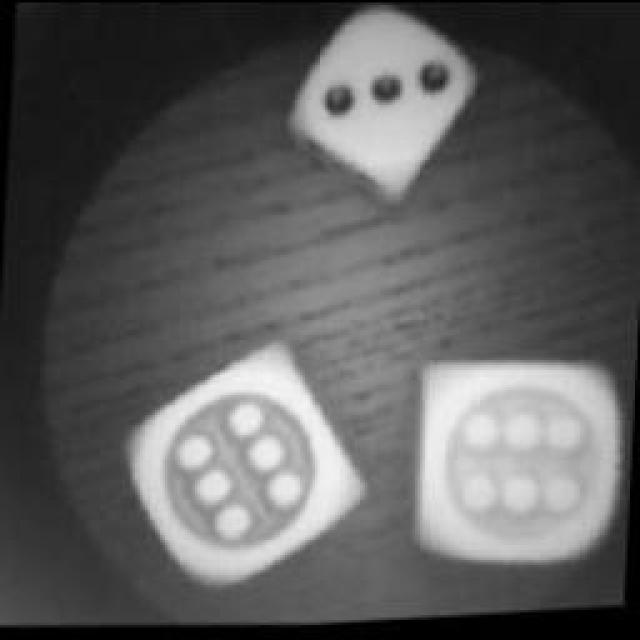dice_3: (290, 2, 485, 210)
dice_6: (115, 336, 375, 602), (395, 340, 630, 590)
